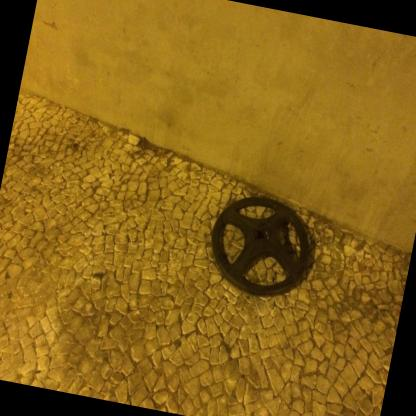Paper: (102, 229, 105, 233)
Plastic: (210, 195, 309, 297)
